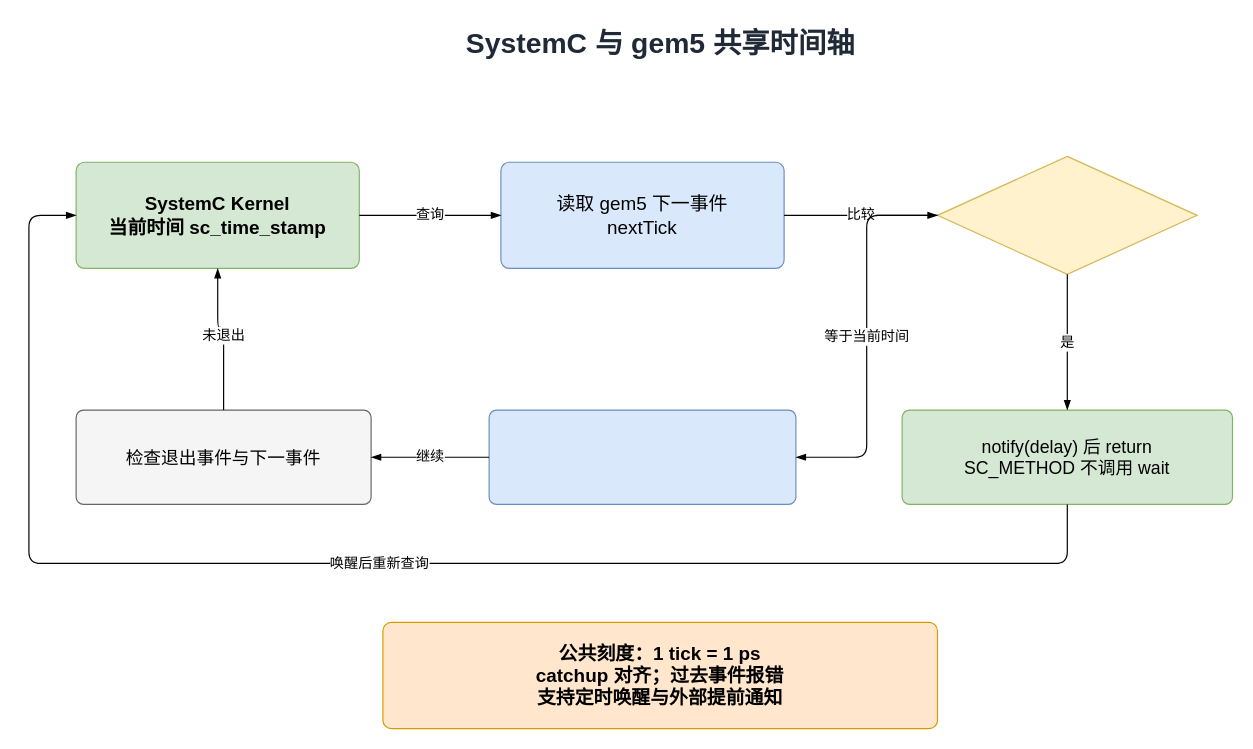
Some shapes in this 1253 by 749 pixel diagram are drawn without their labels. Each missing label, with the centre of its shape:
nextTick 是否在未来: the point at 1066,214
处理一条 gem5 Event serviceOne: the point at 642,456
